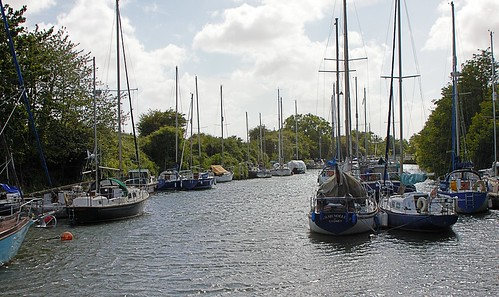boat: (70, 1, 153, 220), (307, 1, 381, 238), (385, 1, 459, 238), (439, 3, 488, 214), (155, 75, 215, 191)
river: (31, 181, 499, 297)
sky: (98, 1, 435, 106)
tree: (1, 16, 117, 176)
